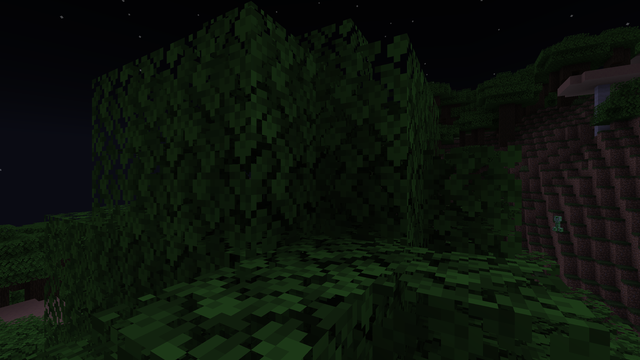creepers: (553, 215, 561, 231)
